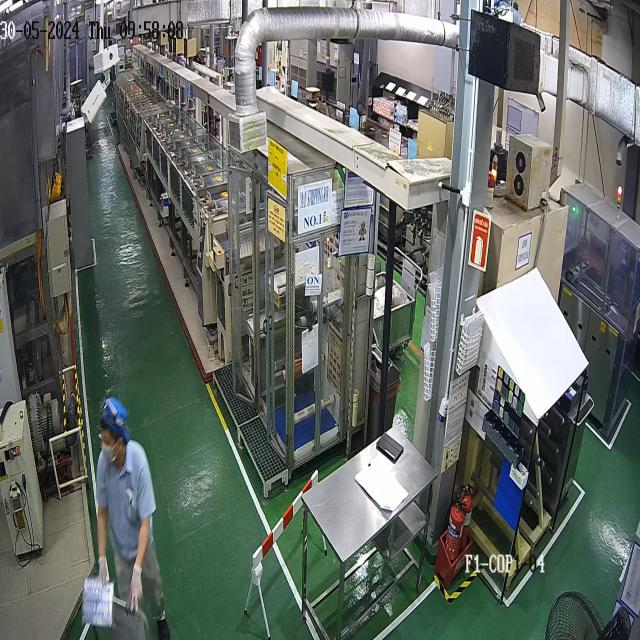Person: (96, 396, 170, 639)
